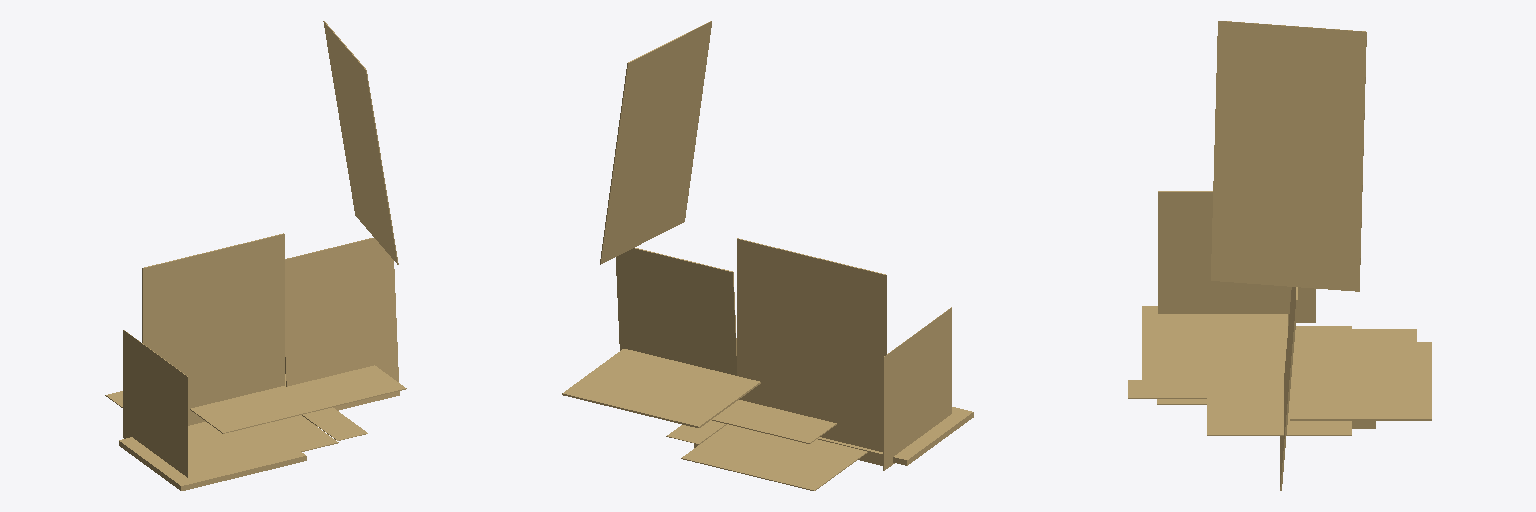
The robot description file, URDF, robot "evolved_design":
<?xml version="1.0" ?>
<robot name="evolved_design">
  <link name="base_link">
    <inertial>
      <mass value="0.001"/>
      <origin xyz="0 0 0" rpy="0 0 0"/>
      <inertia ixx="0.000001" ixy="0" ixz="0" iyy="0.000001" iyz="0" izz="0.000001"/>
    </inertial>
  </link>
  <link name="link_comp_0">
    <inertial>
      <mass value="0.601137"/>
      <origin xyz="0 0 0" rpy="0 0 0"/>
      <inertia ixx="0.009528798" ixy="0" ixz="0" iyy="0.000623806" iyz="0" izz="0.008941351"/>
    </inertial>
    <visual>
      <origin xyz="0 0 0" rpy="0 0 0"/>
      <geometry>
        <box size="0.019050 0.422050 0.109953"/>
      </geometry>
      <material name="link_comp_0_material">
        <color rgba="0.8 0.7 0.5 1"/>
      </material>
    </visual>
    <collision>
      <origin xyz="0 0 0" rpy="0 0 0"/>
      <geometry>
        <box size="0.019050 0.422050 0.109953"/>
      </geometry>
    </collision>
  </link>
  <joint name="base_link_to_link_comp_0" type="fixed">
    <parent link="base_link"/>
    <child link="link_comp_0"/>
    <origin xyz="0.009525 0.211025 0.054976" rpy="0.000000 0.000000 0.000000"/>
  </joint>
  <link name="link_comp_1">
    <inertial>
      <mass value="0.719914"/>
      <origin xyz="0 0 0" rpy="0 0 0"/>
      <inertia ixx="0.029328554" ixy="0" ixz="0" iyy="0.013645577" iyz="0" izz="0.042972921"/>
    </inertial>
    <visual>
      <origin xyz="0 0 0" rpy="0 0 0"/>
      <geometry>
        <box size="0.476910 0.699184 0.003175"/>
      </geometry>
      <material name="link_comp_1_material">
        <color rgba="0.8 0.7 0.5 1"/>
      </material>
    </visual>
    <collision>
      <origin xyz="0 0 0" rpy="0 0 0"/>
      <geometry>
        <box size="0.476910 0.699184 0.003175"/>
      </geometry>
    </collision>
  </link>
  <joint name="base_link_to_link_comp_1" type="fixed">
    <parent link="base_link"/>
    <child link="link_comp_1"/>
    <origin xyz="-0.238955 0.183647 0.062099" rpy="0.000000 0.000000 0.000000"/>
  </joint>
  <link name="link_comp_2">
    <inertial>
      <mass value="0.112859"/>
      <origin xyz="0 0 0" rpy="0 0 0"/>
      <inertia ixx="0.005315072" ixy="0" ixz="0" iyy="0.000126351" iyz="0" izz="0.005441355"/>
    </inertial>
    <visual>
      <origin xyz="0 0 0" rpy="0 0 0"/>
      <geometry>
        <box size="0.115892 0.751755 0.001905"/>
      </geometry>
      <material name="link_comp_2_material">
        <color rgba="0.8 0.7 0.5 1"/>
      </material>
    </visual>
    <collision>
      <origin xyz="0 0 0" rpy="0 0 0"/>
      <geometry>
        <box size="0.115892 0.751755 0.001905"/>
      </geometry>
    </collision>
  </link>
  <joint name="base_link_to_link_comp_2" type="fixed">
    <parent link="base_link"/>
    <child link="link_comp_2"/>
    <origin xyz="0.009355 0.131930 0.111405" rpy="0.000000 0.000000 0.000000"/>
  </joint>
  <link name="link_comp_3">
    <inertial>
      <mass value="0.775319"/>
      <origin xyz="0 0 0" rpy="0 0 0"/>
      <inertia ixx="0.020982424" ixy="0" ixz="0" iyy="0.032445728" iyz="0" izz="0.011466219"/>
    </inertial>
    <visual>
      <origin xyz="0 0 0" rpy="0 0 0"/>
      <geometry>
        <box size="0.421243 0.004750 0.569853"/>
      </geometry>
      <material name="link_comp_3_material">
        <color rgba="0.8 0.7 0.5 1"/>
      </material>
    </visual>
    <collision>
      <origin xyz="0 0 0" rpy="0 0 0"/>
      <geometry>
        <box size="0.421243 0.004750 0.569853"/>
      </geometry>
    </collision>
  </link>
  <joint name="base_link_to_link_comp_3" type="fixed">
    <parent link="base_link"/>
    <child link="link_comp_3"/>
    <origin xyz="0.210622 0.188619 0.284927" rpy="-0.076296 0.000000 0.000000"/>
  </joint>
  <link name="link_comp_4">
    <inertial>
      <mass value="1.135613"/>
      <origin xyz="0 0 0" rpy="0 0 0"/>
      <inertia ixx="0.040640646" ixy="0" ixz="0" iyy="0.067881395" iyz="0" izz="0.027245019"/>
    </inertial>
    <visual>
      <origin xyz="0 0 0" rpy="0 0 0"/>
      <geometry>
        <box size="0.536540 0.004750 0.655306"/>
      </geometry>
      <material name="link_comp_4_material">
        <color rgba="0.8 0.7 0.5 1"/>
      </material>
    </visual>
    <collision>
      <origin xyz="0 0 0" rpy="0 0 0"/>
      <geometry>
        <box size="0.536540 0.004750 0.655306"/>
      </geometry>
    </collision>
  </link>
  <joint name="base_link_to_link_comp_4" type="fixed">
    <parent link="base_link"/>
    <child link="link_comp_4"/>
    <origin xyz="-0.268770 0.187813 0.347075" rpy="0.000000 0.000000 0.000000"/>
  </joint>
  <link name="link_comp_5">
    <inertial>
      <mass value="0.805765"/>
      <origin xyz="0 0 0" rpy="0 0 0"/>
      <inertia ixx="0.009749813" ixy="0" ixz="0" iyy="0.016110251" iyz="0" izz="0.025854649"/>
    </inertial>
    <visual>
      <origin xyz="0 0 0" rpy="0 0 0"/>
      <geometry>
        <box size="0.489780 0.380999 0.006350"/>
      </geometry>
      <material name="link_comp_5_material">
        <color rgba="0.8 0.7 0.5 1"/>
      </material>
    </visual>
    <collision>
      <origin xyz="0 0 0" rpy="0 0 0"/>
      <geometry>
        <box size="0.489780 0.380999 0.006350"/>
      </geometry>
    </collision>
  </link>
  <joint name="base_link_to_link_comp_5" type="fixed">
    <parent link="base_link"/>
    <child link="link_comp_5"/>
    <origin xyz="0.157400 0.381994 0.203558" rpy="0.000000 0.000000 0.000000"/>
  </joint>
  <link name="link_comp_6">
    <inertial>
      <mass value="0.641104"/>
      <origin xyz="0 0 0" rpy="0 0 0"/>
      <inertia ixx="0.037302975" ixy="0" ixz="0" iyy="0.028460161" iyz="0" izz="0.008843891"/>
    </inertial>
    <visual>
      <origin xyz="0 0 0" rpy="0 0 0"/>
      <geometry>
        <box size="0.003175 0.406851 0.729862"/>
      </geometry>
      <material name="link_comp_6_material">
        <color rgba="0.8 0.7 0.5 1"/>
      </material>
    </visual>
    <collision>
      <origin xyz="0 0 0" rpy="0 0 0"/>
      <geometry>
        <box size="0.003175 0.406851 0.729862"/>
      </geometry>
    </collision>
  </link>
  <joint name="base_link_to_link_comp_6" type="fixed">
    <parent link="base_link"/>
    <child link="link_comp_6"/>
    <origin xyz="0.288785 0.188091 0.935285" rpy="0.000000 -0.153479 -0.174028"/>
  </joint>
  <link name="link_comp_7">
    <inertial>
      <mass value="0.630815"/>
      <origin xyz="0 0 0" rpy="0 0 0"/>
      <inertia ixx="0.008021506" ixy="0" ixz="0" iyy="0.025216287" iyz="0" izz="0.033236557"/>
    </inertial>
    <visual>
      <origin xyz="0 0 0" rpy="0 0 0"/>
      <geometry>
        <box size="0.692588 0.390617 0.003429"/>
      </geometry>
      <material name="link_comp_7_material">
        <color rgba="0.8 0.7 0.5 1"/>
      </material>
    </visual>
    <collision>
      <origin xyz="0 0 0" rpy="0 0 0"/>
      <geometry>
        <box size="0.692588 0.390617 0.003429"/>
      </geometry>
    </collision>
  </link>
  <joint name="base_link_to_link_comp_7" type="fixed">
    <parent link="base_link"/>
    <child link="link_comp_7"/>
    <origin xyz="-0.012932 0.162966 0.125367" rpy="0.000000 0.000000 0.000000"/>
  </joint>
  <link name="link_comp_8">
    <inertial>
      <mass value="0.171622"/>
      <origin xyz="0 0 0" rpy="0 0 0"/>
      <inertia ixx="0.004752992" ixy="0" ixz="0" iyy="0.002181571" iyz="0" izz="0.002571487"/>
    </inertial>
    <visual>
      <origin xyz="0 0 0" rpy="0 0 0"/>
      <geometry>
        <box size="0.001524 0.424027 0.390558"/>
      </geometry>
      <material name="link_comp_8_material">
        <color rgba="0.8 0.7 0.5 1"/>
      </material>
    </visual>
    <collision>
      <origin xyz="0 0 0" rpy="0 0 0"/>
      <geometry>
        <box size="0.001524 0.424027 0.390558"/>
      </geometry>
    </collision>
  </link>
  <joint name="base_link_to_link_comp_8" type="fixed">
    <parent link="base_link"/>
    <child link="link_comp_8"/>
    <origin xyz="-0.567305 0.048877 0.235717" rpy="0.000000 0.000000 0.000000"/>
  </joint>
  <link name="link_comp_9">
    <inertial>
      <mass value="2.519359"/>
      <origin xyz="0 0 0" rpy="0 0 0"/>
      <inertia ixx="0.035582519" ixy="0" ixz="0" iyy="0.047031430" iyz="0" izz="0.082461568"/>
    </inertial>
    <visual>
      <origin xyz="0 0 0" rpy="0 0 0"/>
      <geometry>
        <box size="0.472920 0.411243 0.019050"/>
      </geometry>
      <material name="link_comp_9_material">
        <color rgba="0.8 0.7 0.5 1"/>
      </material>
    </visual>
    <collision>
      <origin xyz="0 0 0" rpy="0 0 0"/>
      <geometry>
        <box size="0.472920 0.411243 0.019050"/>
      </geometry>
    </collision>
  </link>
  <joint name="base_link_to_link_comp_9" type="fixed">
    <parent link="base_link"/>
    <child link="link_comp_9"/>
    <origin xyz="-0.382078 -0.002251 0.056978" rpy="0.000000 0.000000 0.000000"/>
  </joint>
</robot>

--- What the picture shows (computed from the rendered views, not written in the file) ---
The picture shows the robot from 3 angles, left to right: view 1: azimuth 30°, elevation 25°; view 2: azimuth 150°, elevation 25°; view 3: azimuth 270°, elevation 25°; orthographic projection.
Model evolved_design with 11 links and 10 joints (10 fixed), rooted at base_link, posed every joint at zero.
Links seen in each view (by area): view 1: link_comp_4, link_comp_3, link_comp_6, link_comp_8, link_comp_9, link_comp_7, link_comp_1, link_comp_2; view 2: link_comp_4, link_comp_6, link_comp_3, link_comp_5, link_comp_8, link_comp_1, link_comp_7, link_comp_9, link_comp_2; view 3: link_comp_6, link_comp_5, link_comp_7, link_comp_8, link_comp_9, link_comp_2, link_comp_3, link_comp_1.
Boxes of the visible links, x1=… form: link_comp_4: x1=142, y1=233, x2=284, y2=425; link_comp_3: x1=285, y1=238, x2=399, y2=410; link_comp_6: x1=323, y1=21, x2=398, y2=264; link_comp_8: x1=123, y1=330, x2=187, y2=477; link_comp_9: x1=119, y1=422, x2=306, y2=490; link_comp_7: x1=190, y1=365, x2=406, y2=433; link_comp_1: x1=105, y1=391, x2=338, y2=451; link_comp_2: x1=303, y1=407, x2=367, y2=440; link_comp_4: x1=737, y1=238, x2=886, y2=465; link_comp_6: x1=600, y1=21, x2=711, y2=264; link_comp_3: x1=616, y1=248, x2=736, y2=375; link_comp_5: x1=562, y1=349, x2=760, y2=427; link_comp_8: x1=883, y1=307, x2=951, y2=470; link_comp_1: x1=681, y1=424, x2=867, y2=490; link_comp_7: x1=712, y1=400, x2=836, y2=443; link_comp_9: x1=818, y1=407, x2=973, y2=465; link_comp_2: x1=666, y1=420, x2=725, y2=444; link_comp_6: x1=1211, y1=21, x2=1366, y2=291; link_comp_5: x1=1290, y1=342, x2=1431, y2=420; link_comp_7: x1=1207, y1=326, x2=1351, y2=435; link_comp_8: x1=1158, y1=191, x2=1315, y2=322; link_comp_9: x1=1142, y1=306, x2=1287, y2=379; link_comp_2: x1=1128, y1=380, x2=1206, y2=398; link_comp_3: x1=1280, y1=287, x2=1297, y2=490; link_comp_1: x1=1157, y1=329, x2=1416, y2=404.
Size in the robot's own frame: 1.04 by 0.8164 by 1.3 metres.
Geometry: primitives only (box / cylinder / sphere), no mesh files.